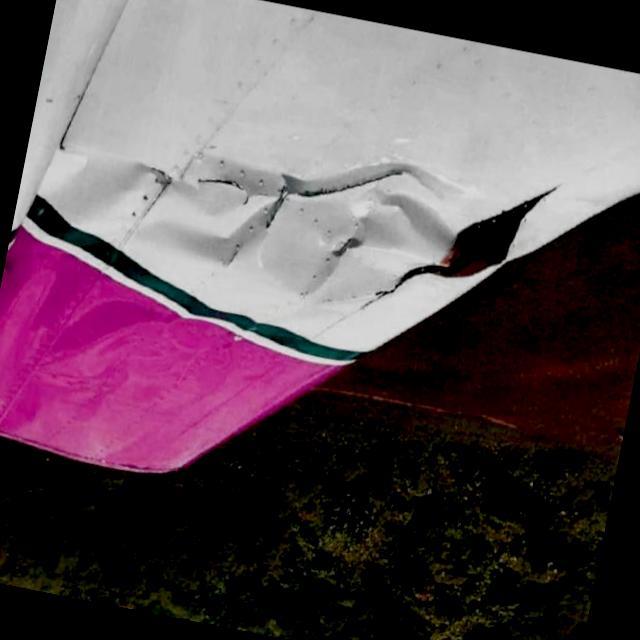crack: (299, 162, 414, 228), (184, 158, 261, 202), (200, 231, 251, 274), (264, 196, 292, 236)
